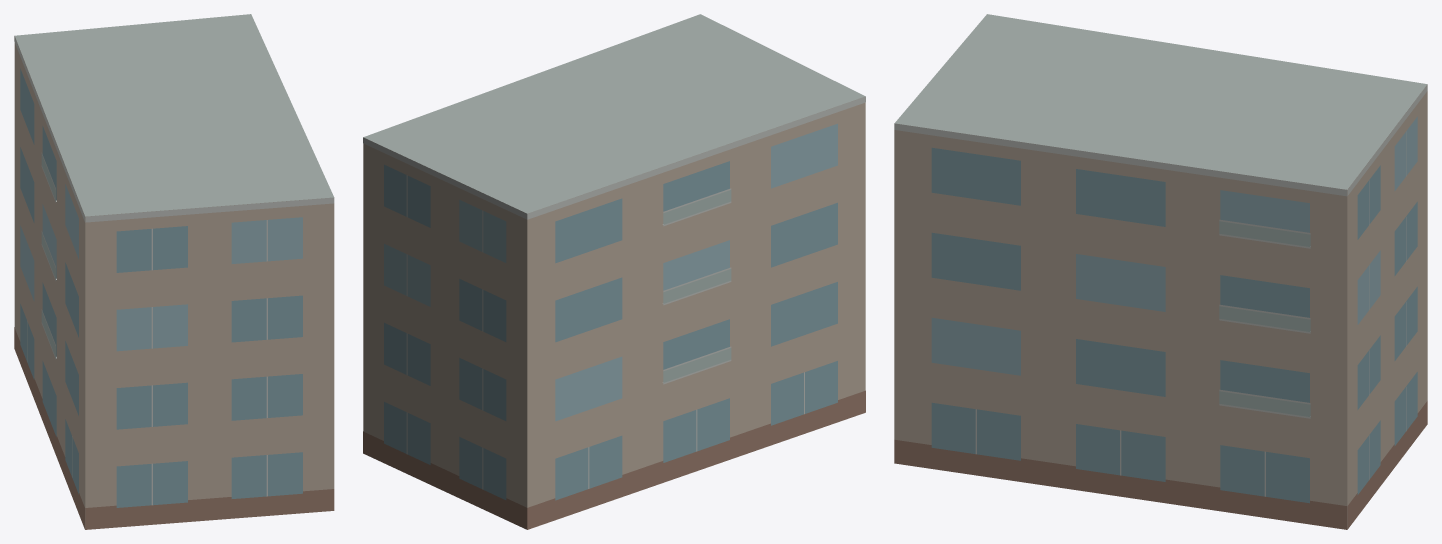
File: survey-upis-32884096.glb
3 renders of one model, left to right at view 1: azimuth 30°, elevation 25°; view 2: azimuth 150°, elevation 25°; view 3: azimuth 270°, elevation 25°, orthographic. The views are drawn at different scales.
Parts seen in each view (by area): view 1: survey-upis-32884096.tmp; view 2: survey-upis-32884096.tmp; view 3: survey-upis-32884096.tmp.
Part boxes in pixels (x1=…): survey-upis-32884096.tmp: x1=14, y1=14, x2=334, y2=529; survey-upis-32884096.tmp: x1=363, y1=14, x2=865, y2=529; survey-upis-32884096.tmp: x1=894, y1=14, x2=1427, y2=529.
Bounding box in the file's own units: 14.09 × 12.7 × 18.06.
